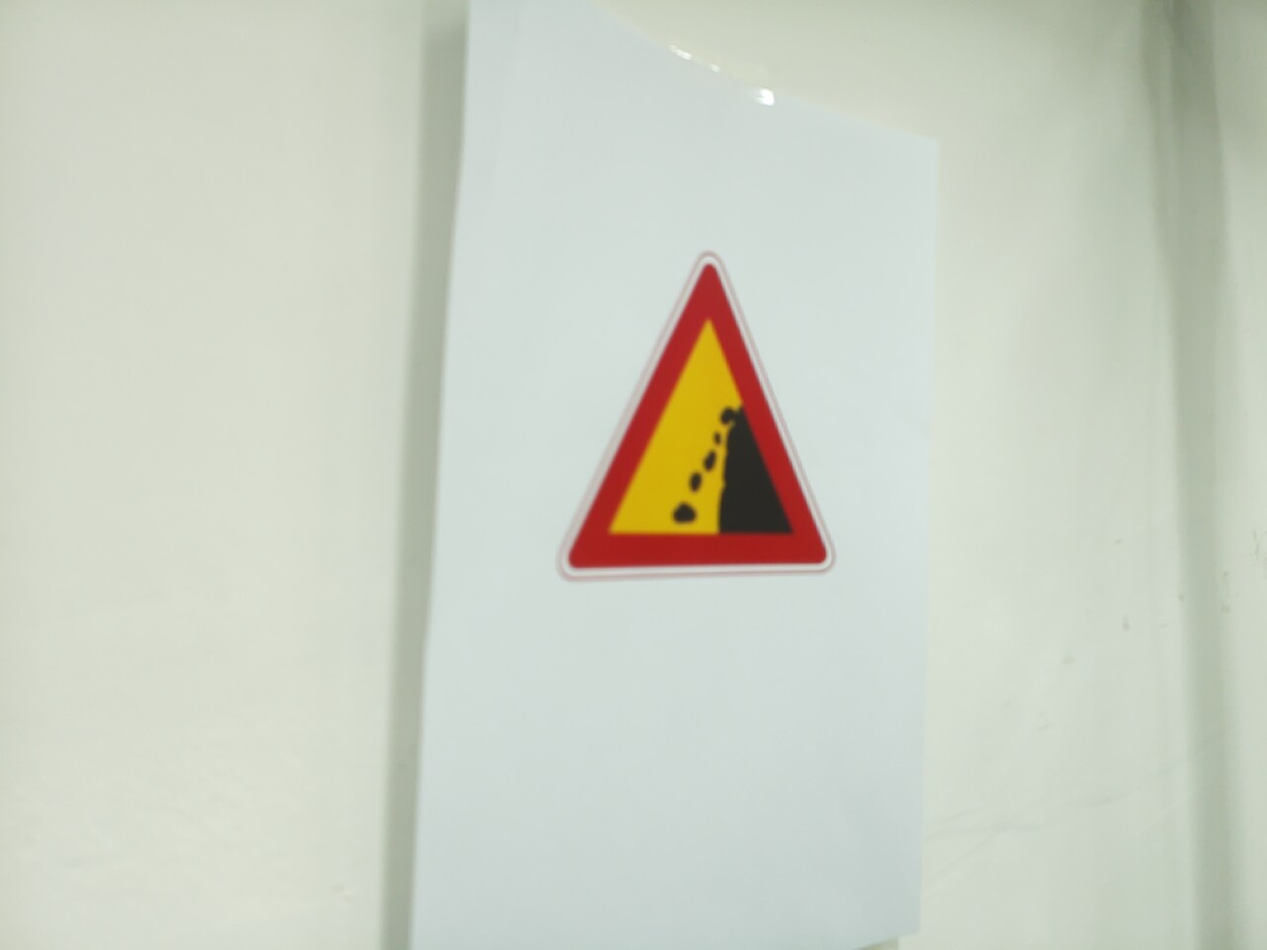falling_rocks: (559, 253, 835, 579)
